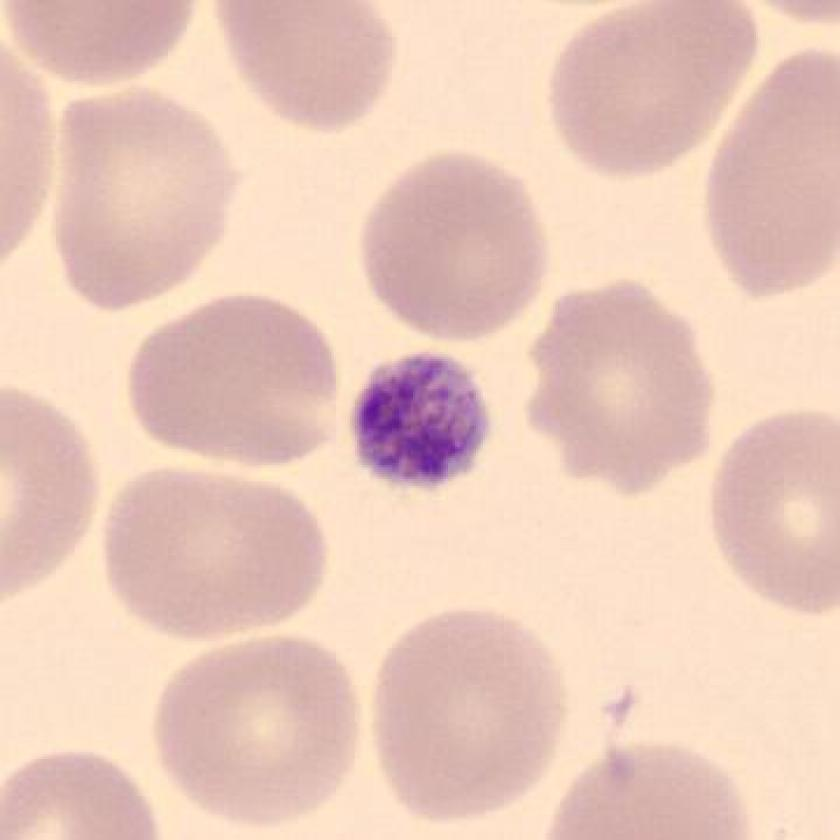platelets: (333, 344, 515, 499)
